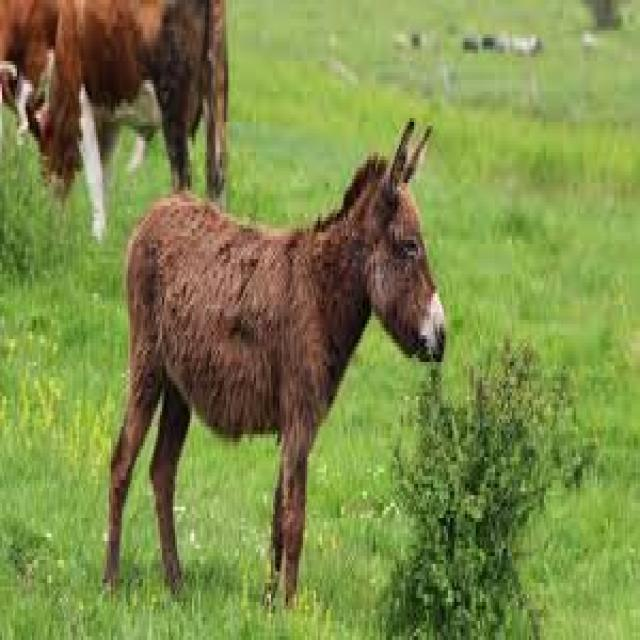Donkey: (82, 107, 458, 608)
